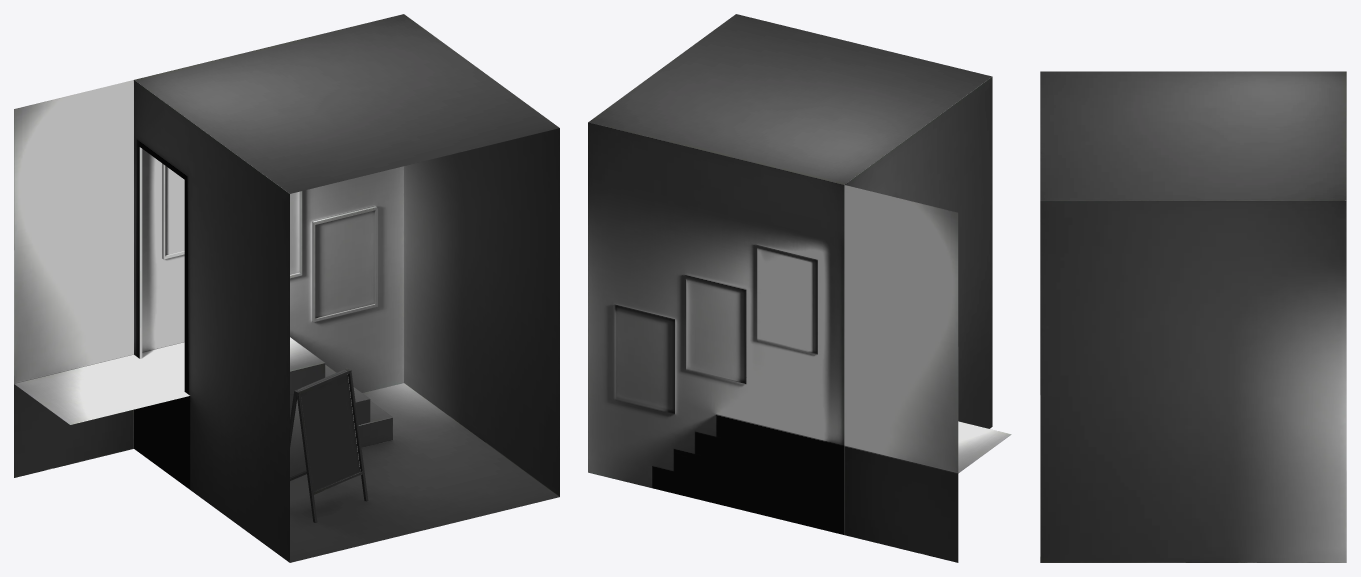
Rendered from portalInteriorJoined-transformed.glb.
3 renders of one model, left to right at view 1: azimuth 30°, elevation 25°; view 2: azimuth 150°, elevation 25°; view 3: azimuth 270°, elevation 25°, orthographic. The views are drawn at different scales.
Parts seen in each view (by area): view 1: mesh; view 2: mesh; view 3: mesh.
Part boxes in pixels (left/top/right/bottom): mesh: left=14, top=14, right=559, bottom=562; mesh: left=588, top=14, right=1011, bottom=562; mesh: left=1040, top=71, right=1346, bottom=562.
Size of the model in its own units: 3.96 by 3.59 by 2.74.
1 material, 1 textured.
